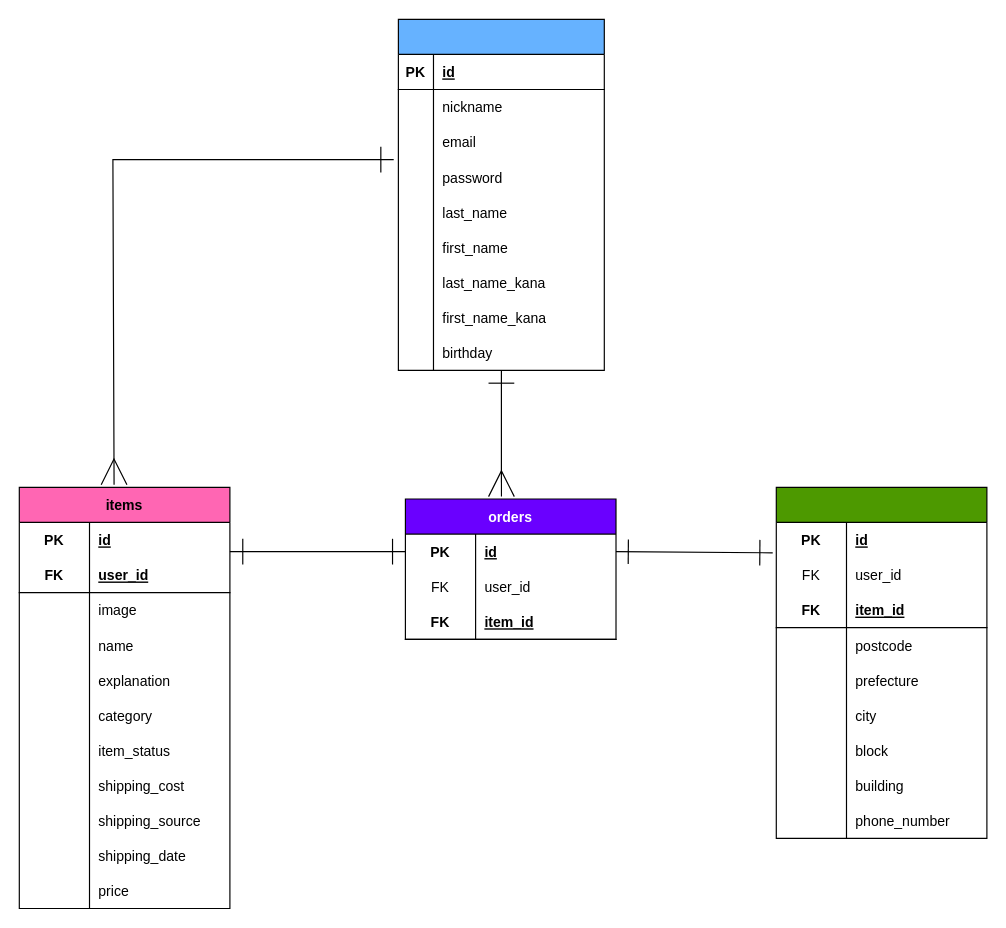
This 1006x928 diagram has some shape labels left out. The box of each missing label's shape, as (x1, y1, x2, y2) in pixels:
buys: (775, 486, 987, 838)
users: (397, 18, 604, 370)
